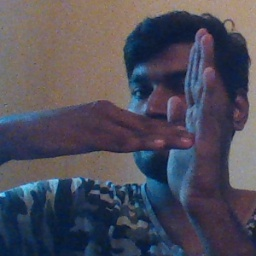Z: (115, 23, 223, 202)
